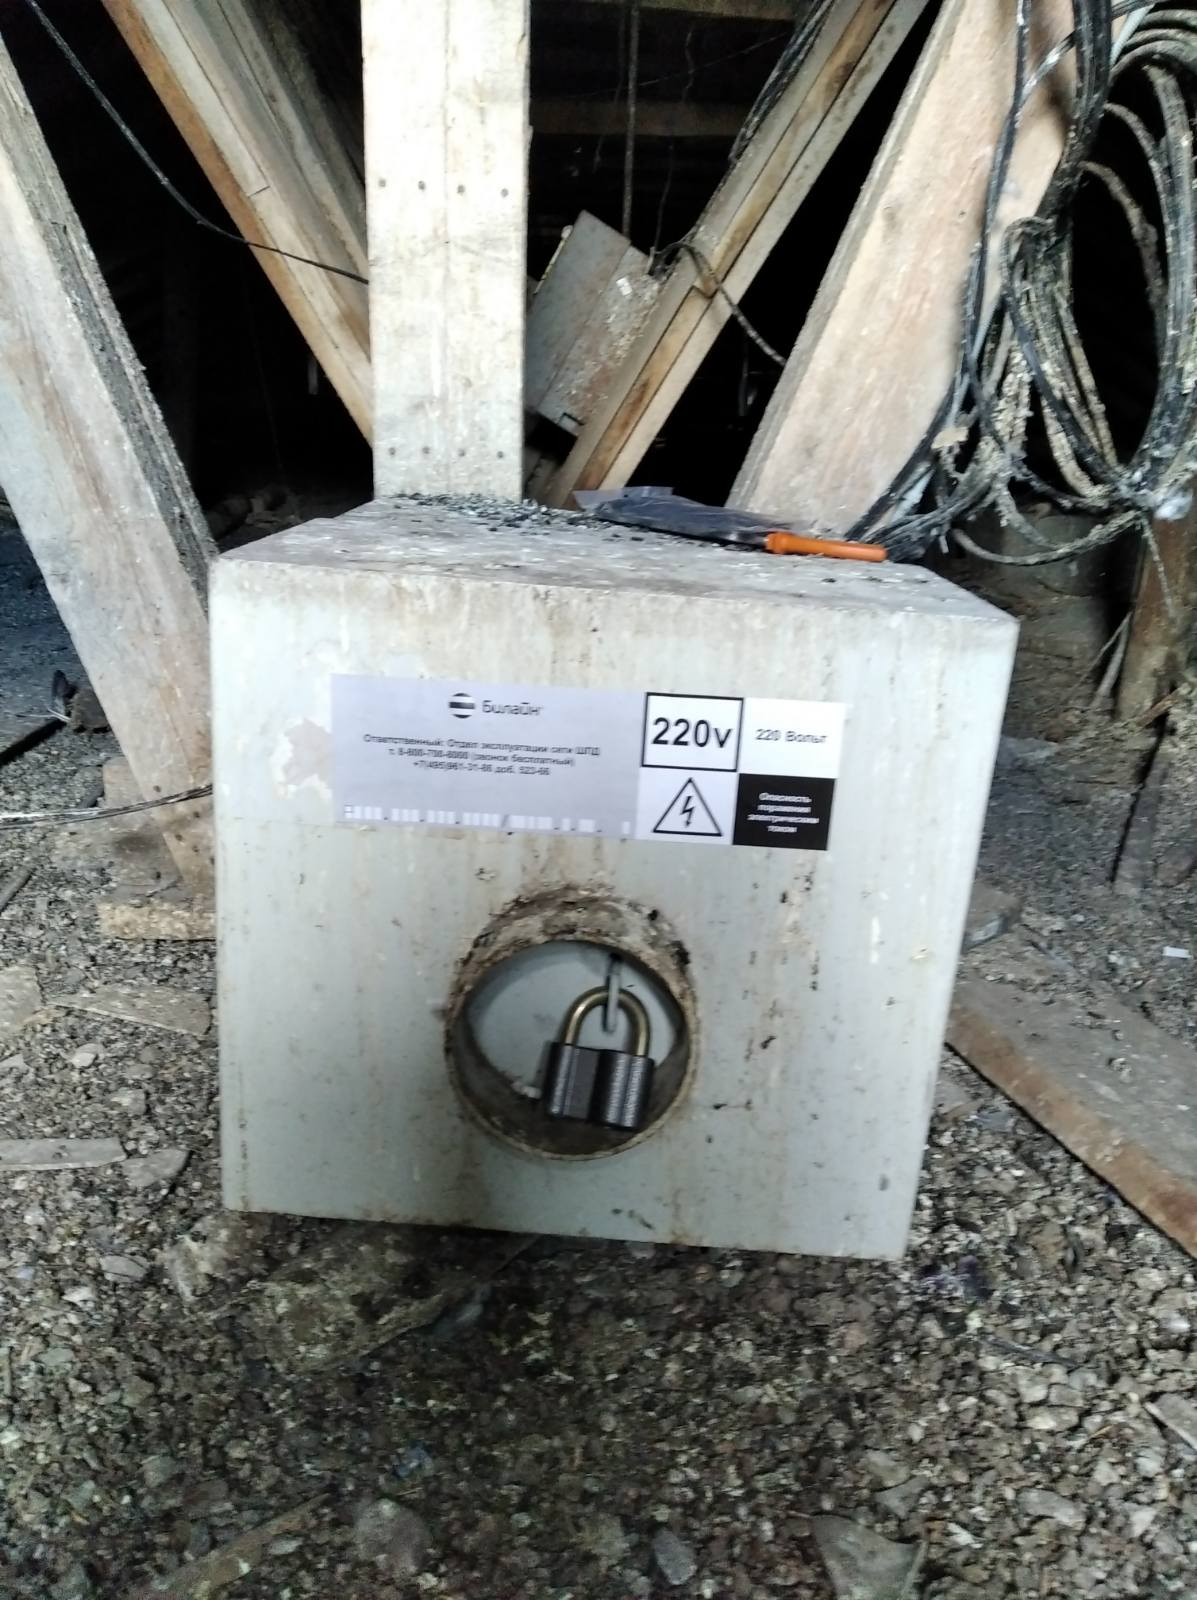shta-9: (192, 491, 1029, 1282)
